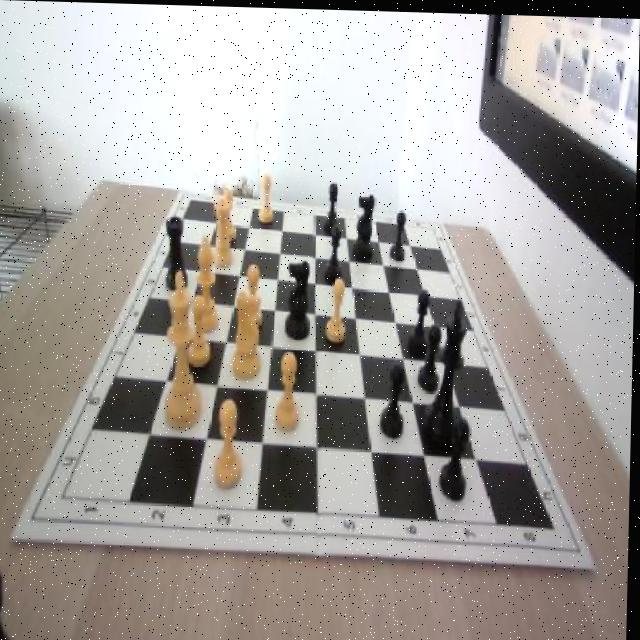black-bishop: (425, 302, 472, 448)
black-king: (285, 256, 315, 337), (354, 189, 377, 261)
black-knight: (441, 413, 471, 498), (382, 358, 409, 436), (418, 321, 443, 390), (409, 285, 432, 353), (324, 225, 346, 283), (325, 179, 342, 229), (391, 208, 407, 261)
black-queen: (164, 213, 189, 290)
black-rook: (193, 235, 222, 333)
white-bishop: (162, 268, 207, 428)
white-king: (227, 279, 268, 382)
white-knight: (213, 398, 247, 488), (274, 347, 307, 432), (186, 292, 215, 369), (240, 263, 266, 331), (328, 274, 350, 340), (258, 174, 277, 223), (221, 188, 239, 239)
white-queen: (212, 196, 237, 267)
